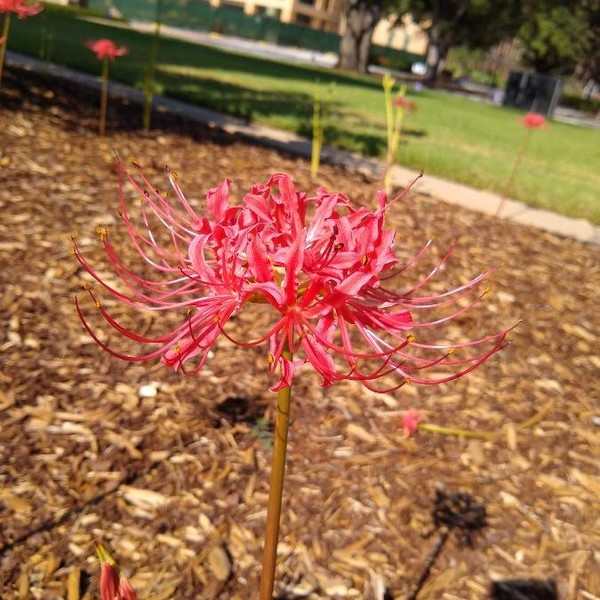obstacle: (92, 148, 490, 582)
